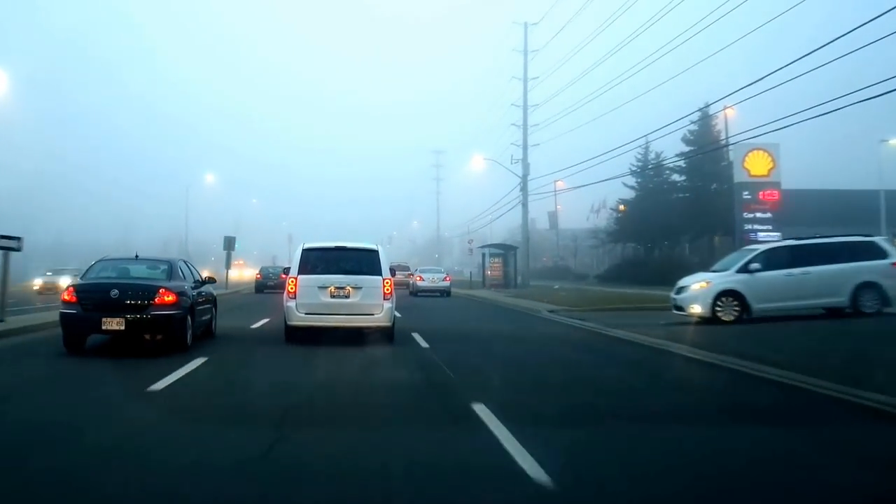car: (669, 232, 896, 327), (59, 249, 221, 355), (280, 242, 398, 341), (30, 266, 87, 295), (406, 266, 452, 298), (254, 263, 294, 294), (383, 260, 413, 290)
